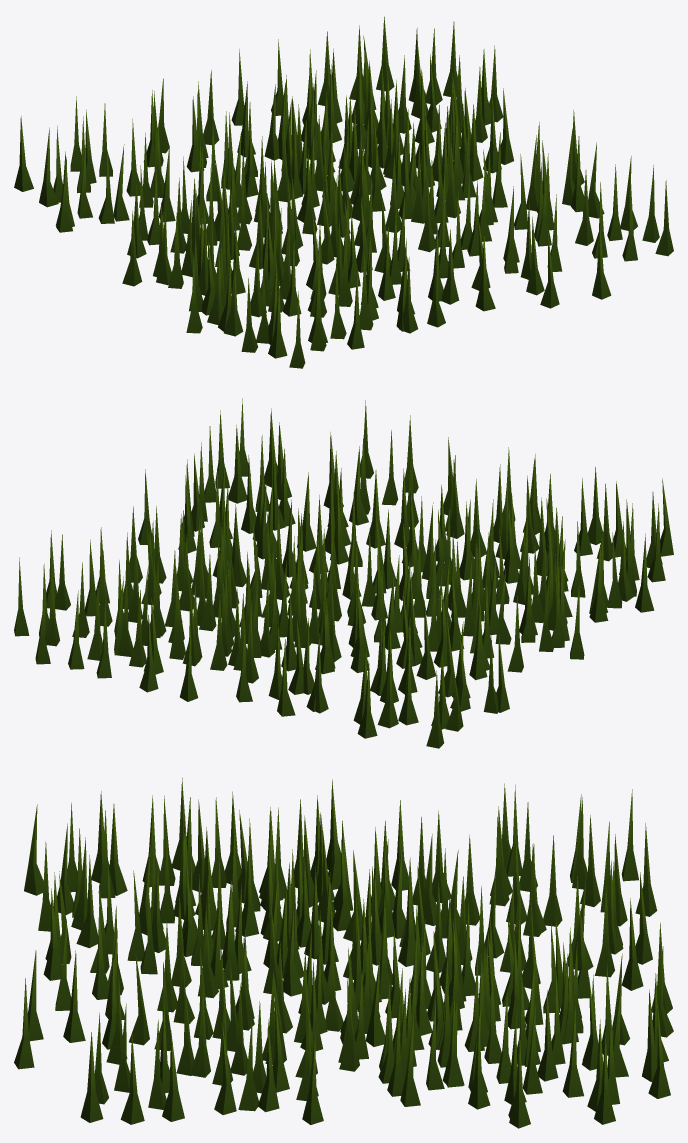
File: Grass.fbx
3 views of the same model, one above another, from view 1: azimuth 30°, elevation 25°; view 2: azimuth 150°, elevation 25°; view 3: azimuth 270°, elevation 25° (orthographic). The views are drawn at different scales.
Visible parts, largest first — view 1: grass; view 2: grass; view 3: grass.
Part boxes in pixels (<box>): grass: <box>14,16,673,368</box>; grass: <box>14,398,673,748</box>; grass: <box>14,777,673,1128</box>.
Size of the model in its own units: 96.34 by 15 by 101.
